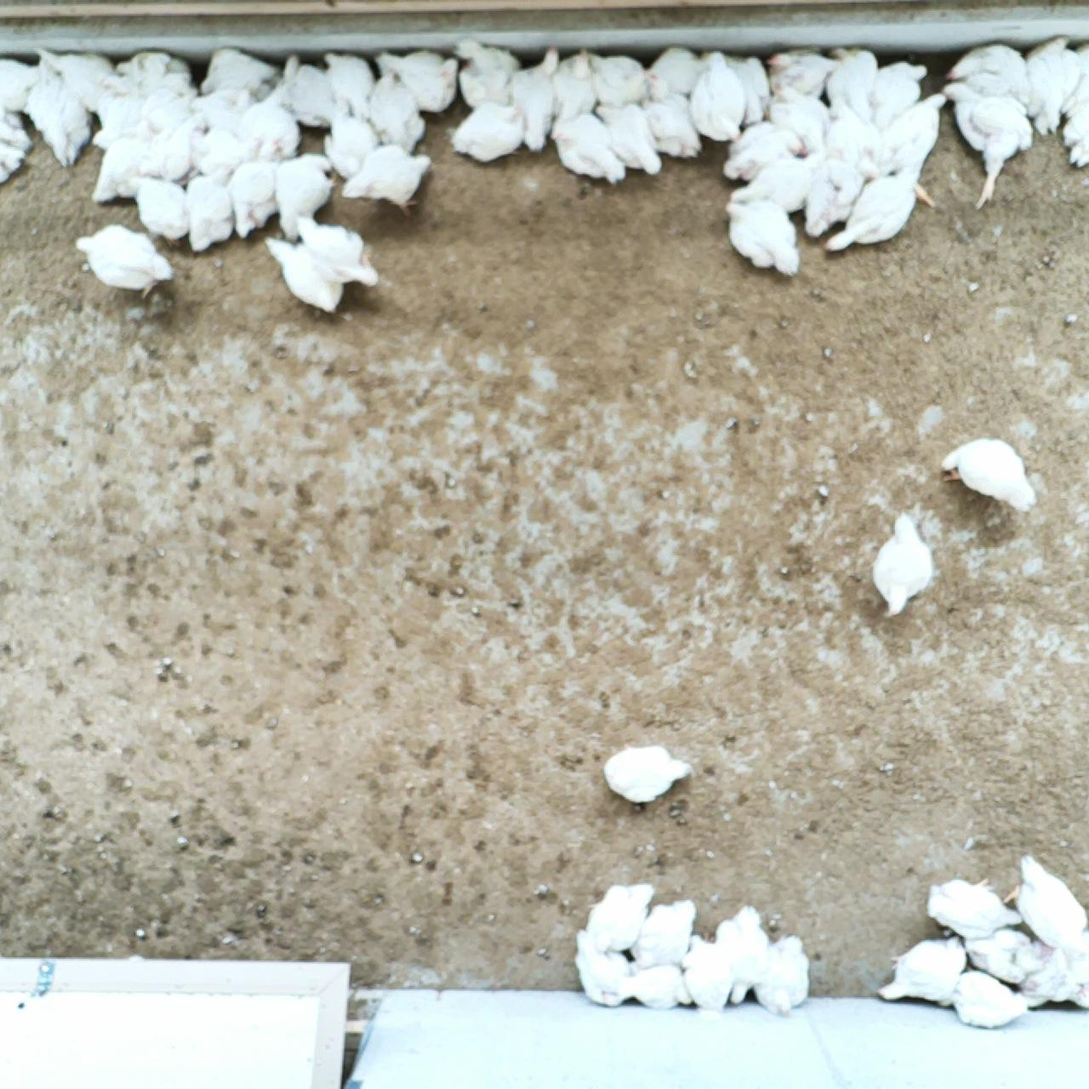chicken: (936, 77, 1036, 213), (822, 160, 923, 260), (863, 504, 941, 620), (72, 219, 177, 303), (939, 435, 1044, 515), (1000, 852, 1089, 944), (874, 932, 976, 1008), (882, 90, 947, 209), (260, 232, 349, 317), (221, 138, 293, 241), (340, 143, 435, 220), (922, 872, 1023, 943), (597, 739, 694, 811), (721, 200, 806, 282), (295, 211, 383, 290), (505, 41, 565, 154), (31, 56, 89, 172), (1021, 33, 1082, 138), (749, 929, 814, 1025), (449, 97, 532, 170), (713, 902, 767, 1013), (373, 48, 462, 115), (567, 922, 635, 1009), (718, 117, 806, 184), (593, 100, 668, 178), (452, 32, 526, 111), (585, 878, 656, 960), (182, 162, 242, 259), (272, 150, 338, 238), (939, 39, 1031, 101), (687, 49, 747, 143), (799, 163, 868, 244), (642, 74, 706, 161), (552, 114, 629, 186), (942, 969, 1029, 1032), (88, 67, 151, 153), (727, 154, 817, 214), (367, 66, 430, 151), (88, 131, 157, 206), (632, 895, 700, 969), (278, 48, 341, 127), (546, 47, 597, 143), (818, 100, 881, 177), (128, 174, 193, 248), (965, 926, 1042, 986), (238, 83, 302, 155), (36, 42, 108, 106), (765, 81, 829, 151), (320, 104, 379, 179), (766, 43, 838, 104), (134, 119, 207, 179), (821, 43, 881, 115), (874, 54, 929, 130), (685, 930, 733, 1016), (584, 49, 650, 110), (324, 46, 378, 119), (199, 45, 272, 96), (627, 960, 697, 1012), (725, 53, 773, 126), (184, 127, 242, 179), (1026, 944, 1072, 1009), (646, 45, 704, 96), (0, 54, 48, 114), (0, 111, 36, 189), (191, 87, 252, 127), (147, 79, 195, 124), (115, 49, 190, 76), (1058, 108, 1089, 168), (1067, 948, 1089, 1012)
